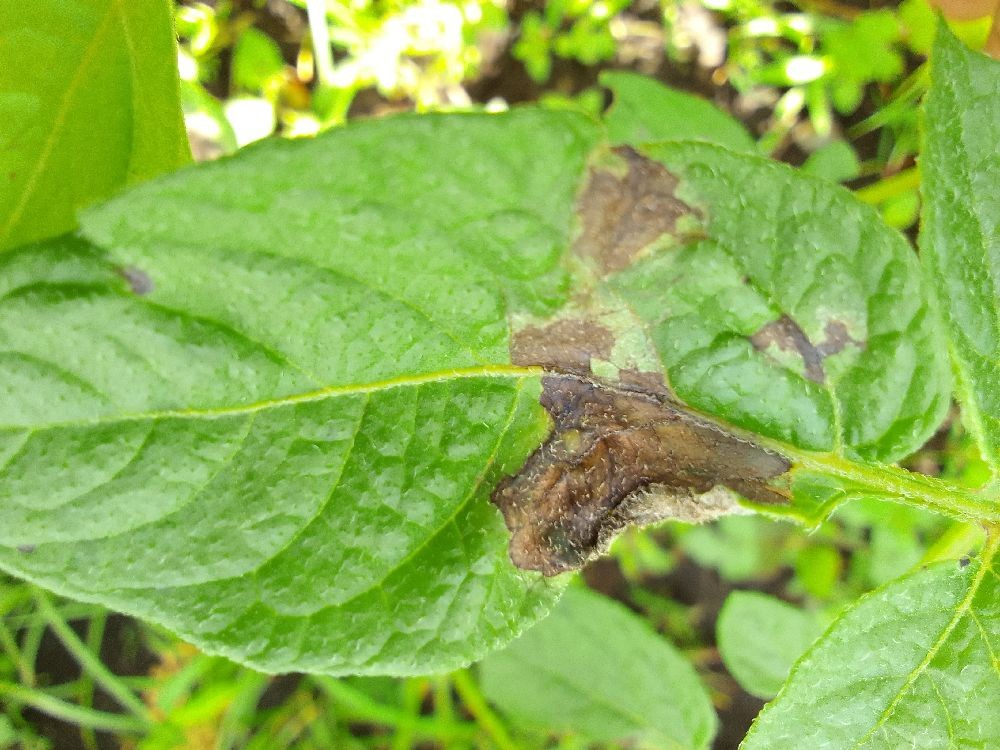late_blight: (420, 0, 827, 177), (559, 130, 712, 291), (91, 603, 190, 687)
